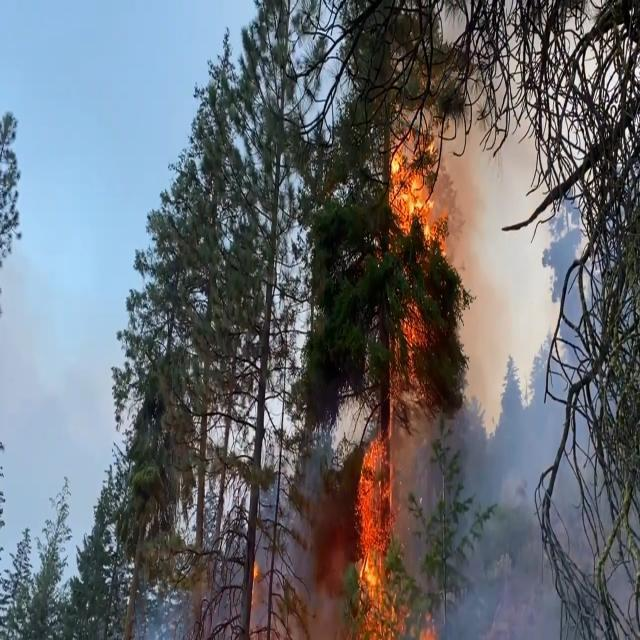Fire: (344, 130, 451, 640)
